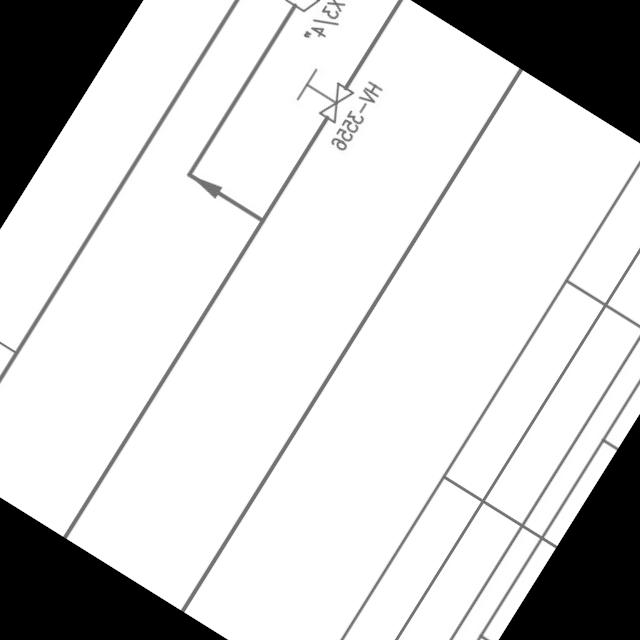HVWT: (286, 58, 360, 132)
SP: (274, 0, 324, 20)
